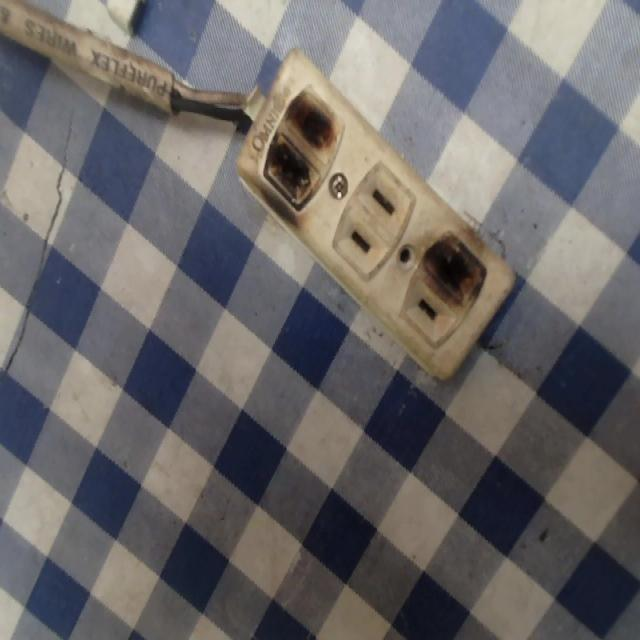-: (258, 84, 343, 216), (418, 228, 488, 317)
